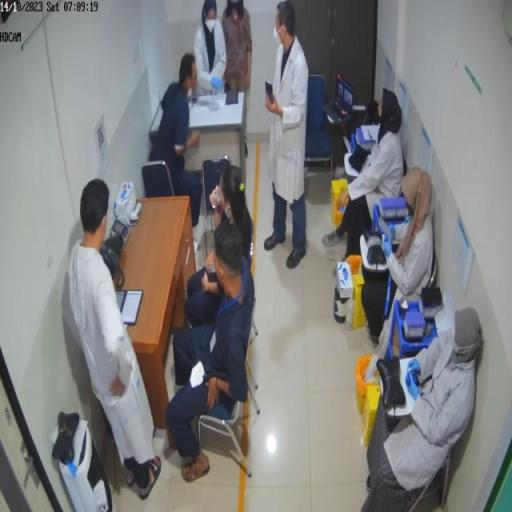person: (67, 179, 163, 501), (361, 307, 485, 508), (166, 225, 256, 482), (323, 91, 404, 262), (361, 169, 436, 346), (264, 2, 310, 271), (186, 167, 255, 329), (150, 54, 203, 231), (222, 2, 254, 185), (193, 1, 228, 96)
